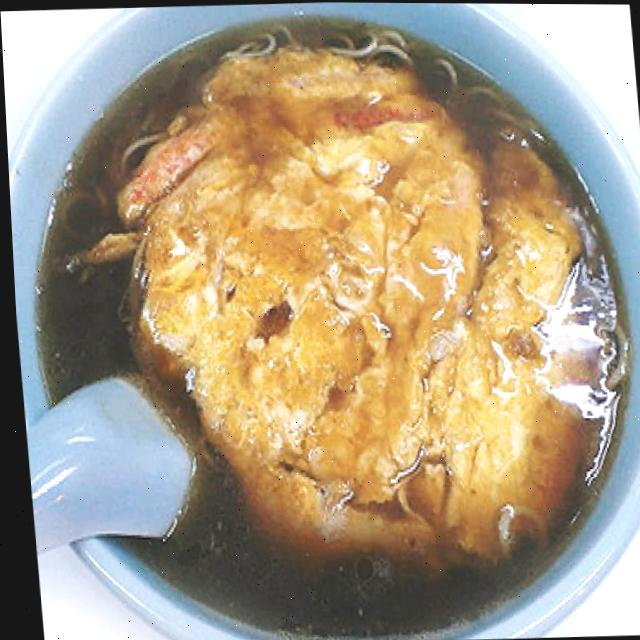面条主食: (10, 18, 618, 640)
